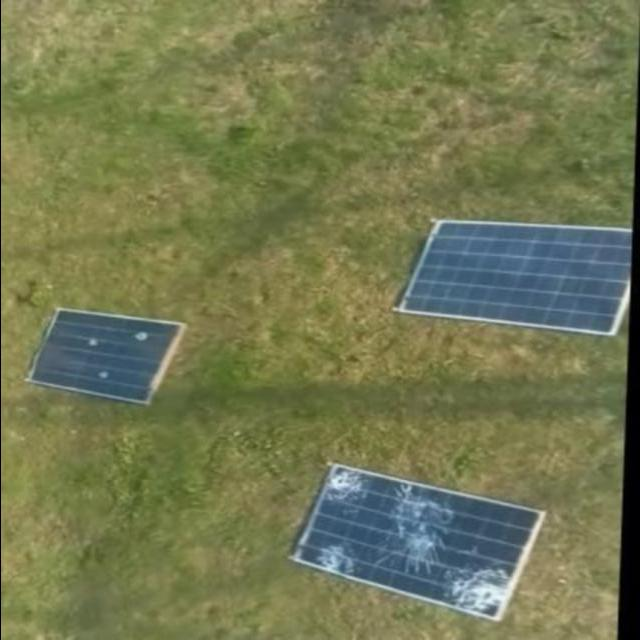cracked: (286, 466, 548, 622)
soiled: (24, 302, 188, 404)
